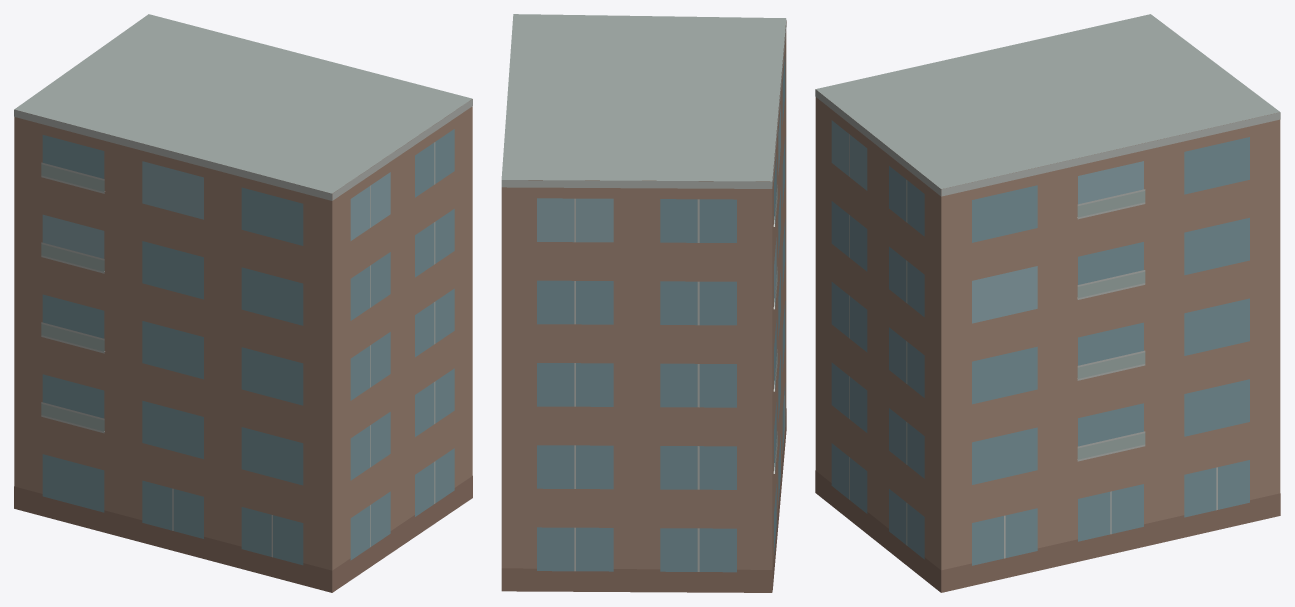
File: survey-upis-32837125.glb
3 renders of one model, left to right at view 1: azimuth 30°, elevation 25°; view 2: azimuth 150°, elevation 25°; view 3: azimuth 270°, elevation 25°, orthographic. The views are drawn at different scales.
Visible parts, largest first — view 1: survey-upis-32837125.tmp; view 2: survey-upis-32837125.tmp; view 3: survey-upis-32837125.tmp.
Part boxes in pixels (x1,y1,x2,y2): survey-upis-32837125.tmp: (14, 14, 472, 592); survey-upis-32837125.tmp: (501, 14, 786, 592); survey-upis-32837125.tmp: (815, 14, 1280, 592).
Size of the model in its own units: 12.33 by 13.24 by 13.83.
